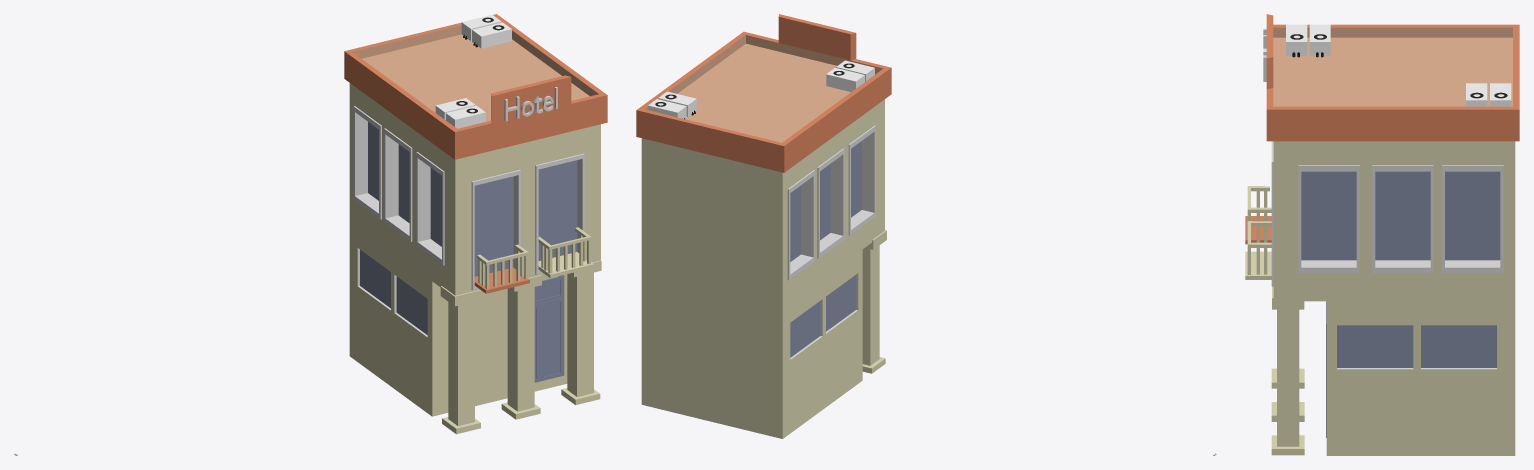
File: envirnment7.fbx
3 renders of one model, left to right at view 1: azimuth 30°, elevation 25°; view 2: azimuth 150°, elevation 25°; view 3: azimuth 270°, elevation 25°, orthographic. The views are drawn at different scales.
Parts seen in each view (by area): view 1: Cube.096; view 2: Cube.096; view 3: Cube.096.
Part boxes in pixels (left/top/right/bottom): Cube.096: left=344, top=14, right=607, bottom=434; Cube.096: left=636, top=14, right=891, bottom=438; Cube.096: left=1245, top=14, right=1519, bottom=455.
Bounding box in the file's own units: 15314 × 8994 × 5903.
